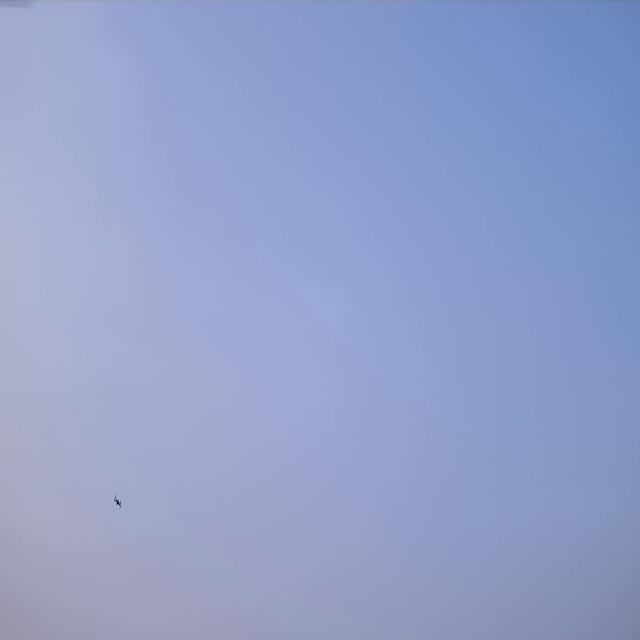UAV: (113, 494, 122, 508)
